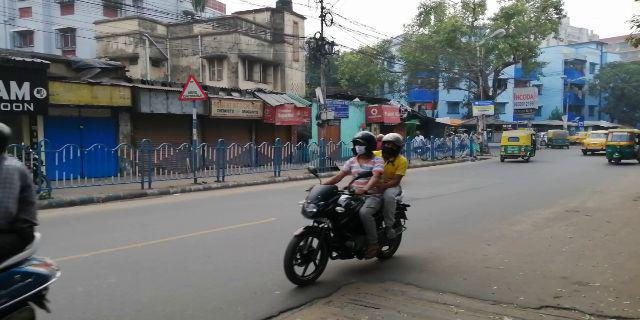Autorickshaw: (499, 132, 537, 161), (605, 129, 637, 161)
Motorbike: (279, 131, 414, 282)
